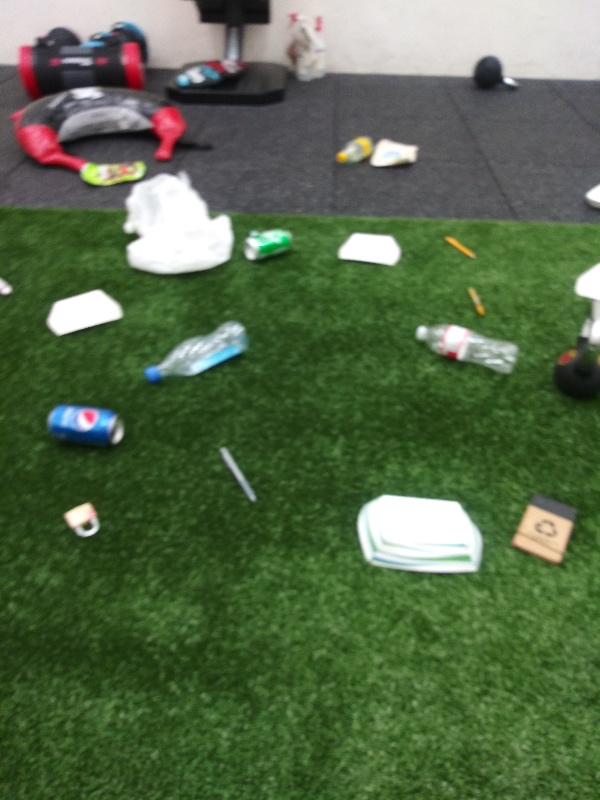bag: (80, 157, 150, 189), (364, 136, 423, 173)
bottle: (138, 316, 253, 388), (411, 317, 519, 382), (331, 134, 376, 168)
can: (43, 401, 131, 454), (243, 222, 296, 268)
plate: (353, 492, 486, 578), (43, 285, 128, 341), (334, 230, 404, 272), (572, 260, 600, 303), (581, 178, 600, 212)
